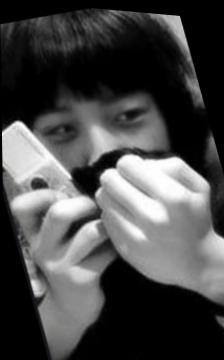WRONG: (16, 62, 191, 244)
